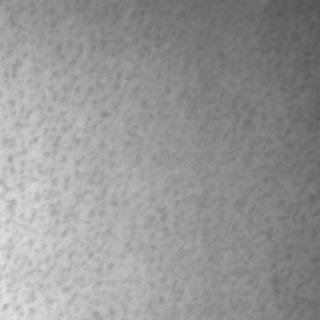pitted_surface: (2, 3, 156, 310), (242, 4, 314, 312)
